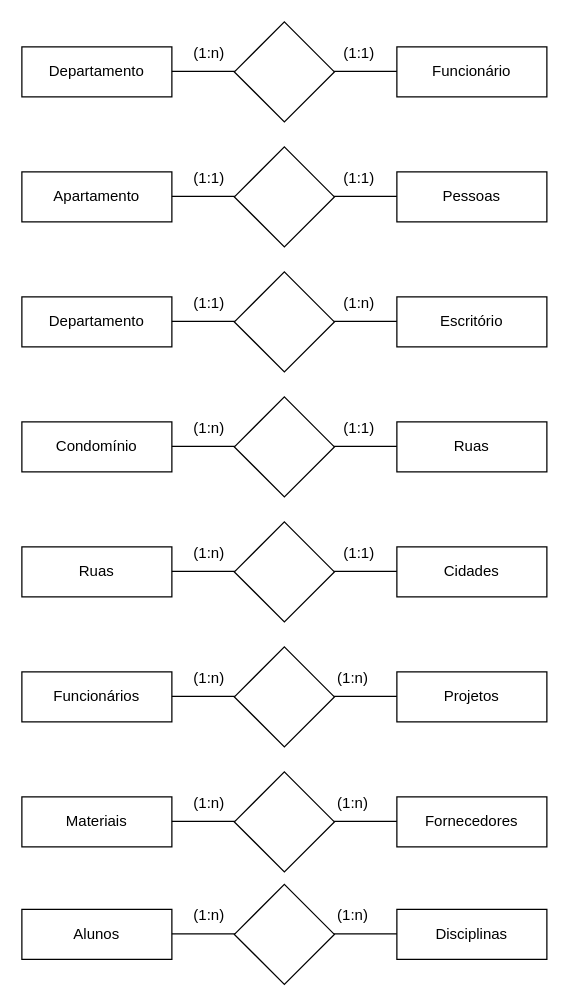
Some shapes in this 569 by 1006 pixel diagram are drawn without their labels. Here are the shapes that lost their labels. From the top down, the box of each, then its label:
(233, 21, 334, 122): Lota
(233, 146, 334, 247): Mora
(233, 271, 334, 372): Possui
(233, 396, 334, 497): Localizam-se
(233, 521, 334, 622): Estão
(233, 646, 334, 747): Participam
(233, 771, 334, 872): Fornecidos
(233, 883, 334, 984): Cursam
